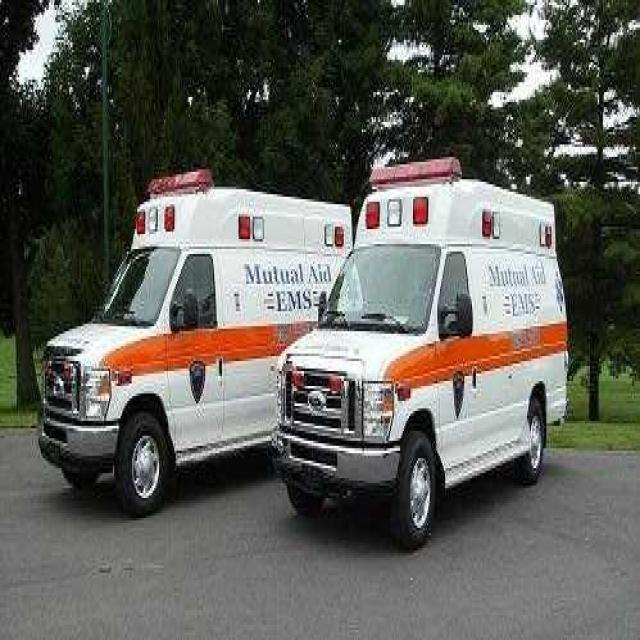emergency-vehicle: (274, 154, 584, 553), (28, 162, 268, 526)
